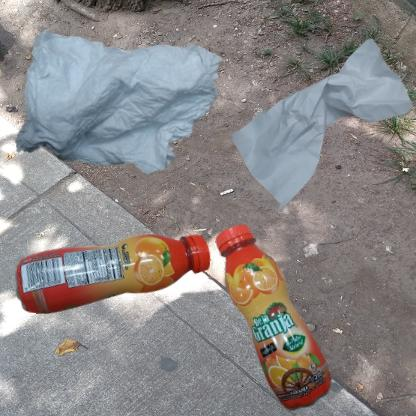botella: (10, 213, 226, 341), (213, 213, 349, 416)
papel: (213, 10, 416, 249), (10, 10, 243, 203)
